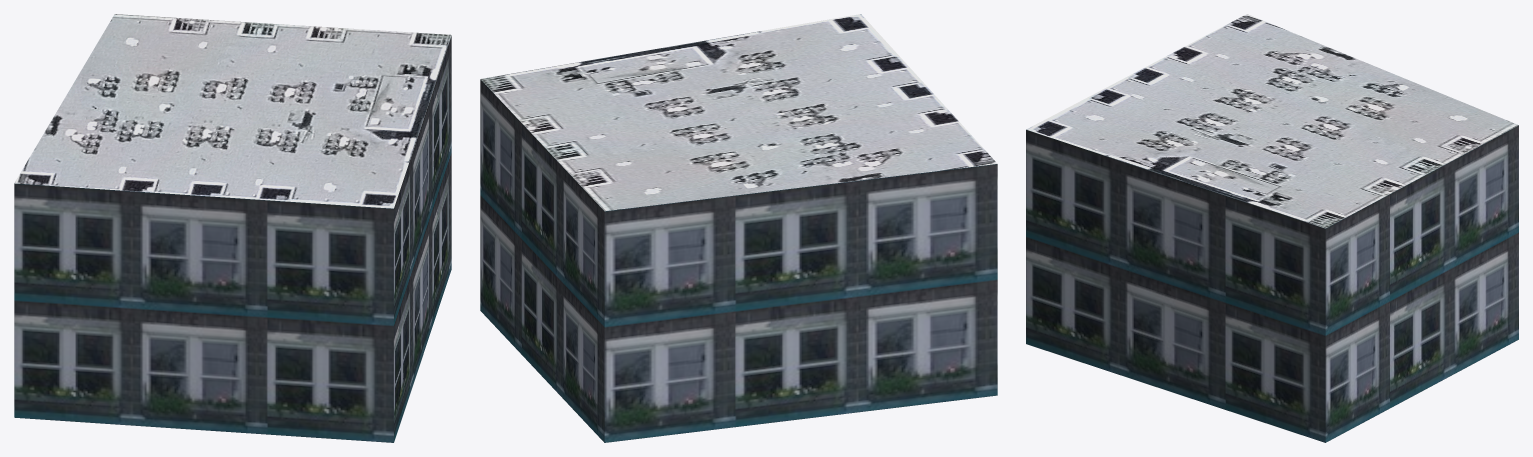
The model's file is ResTex__1294.fbx.
The picture shows the model from 3 angles, left to right: view 1: azimuth 30°, elevation 25°; view 2: azimuth 150°, elevation 25°; view 3: azimuth 270°, elevation 25°; orthographic projection. The views are drawn at different scales.
Parts seen in each view (by area): view 1: CityEngineMaterial_11_m, CityEngineMaterial_m; view 2: CityEngineMaterial_11_m, CityEngineMaterial_m; view 3: CityEngineMaterial_11_m, CityEngineMaterial_m.
Boxes of the visible parts, x1,y1,x2,y2 form: CityEngineMaterial_11_m: [14, 36, 451, 442]; CityEngineMaterial_m: [14, 14, 451, 208]; CityEngineMaterial_11_m: [480, 79, 997, 442]; CityEngineMaterial_m: [480, 14, 997, 211]; CityEngineMaterial_11_m: [1026, 125, 1518, 442]; CityEngineMaterial_m: [1026, 14, 1518, 228].
Bounding box in the file's own units: 12.88 × 6 × 12.5.
Materials: 2 (2 with a texture image).
